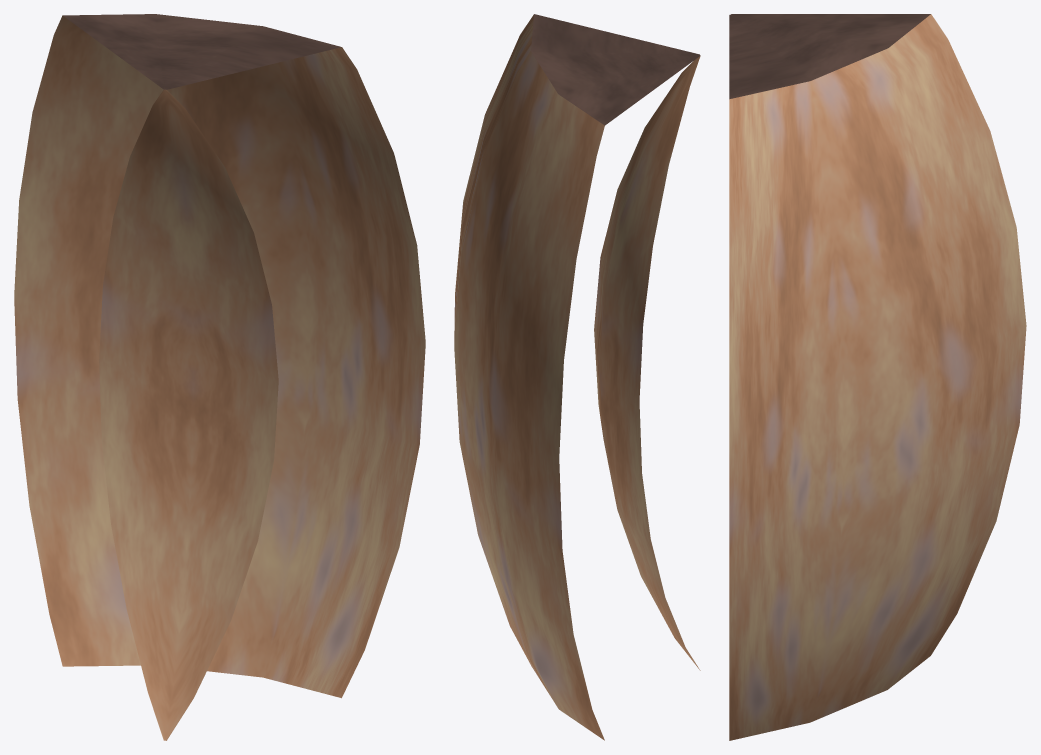
File: FI_006_francos_building_wall_corner_front.glb
The picture shows the model from 3 angles, left to right: view 1: azimuth 30°, elevation 25°; view 2: azimuth 150°, elevation 25°; view 3: azimuth 270°, elevation 25°; orthographic projection. The views are drawn at different scales.
Visible parts, largest first — view 1: wall_corner; view 2: wall_corner; view 3: wall_corner.
Boxes of the visible parts, x1,y1,x2,y2 form: wall_corner: (14,14,425,740); wall_corner: (454,14,700,740); wall_corner: (729,14,1026,740).
Size of the model in its own units: 1.26 by 3 by 1.26.
2 materials, 2 textured.
